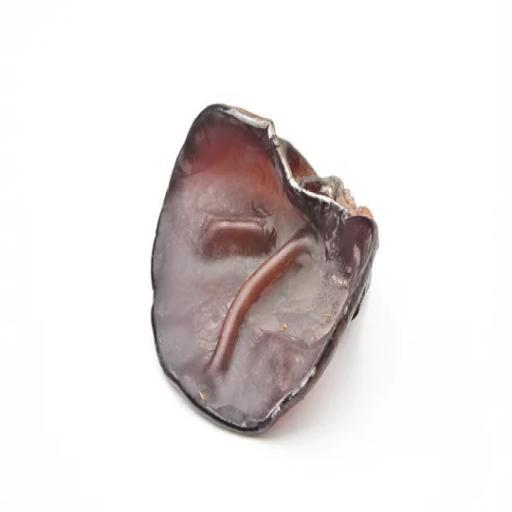mushroom: (139, 93, 382, 443)
